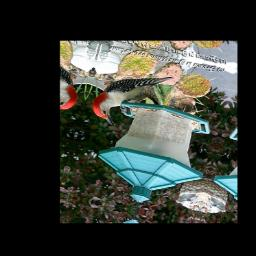Woodpecker: (88, 63, 174, 136)
